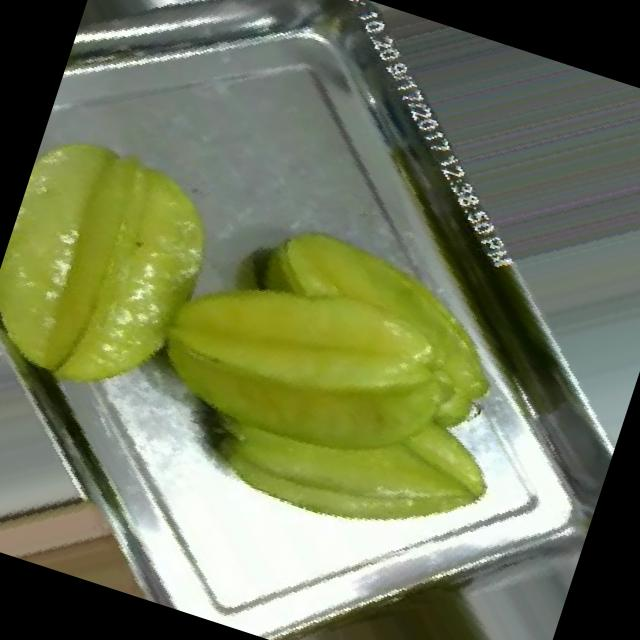fruit: (70, 133, 596, 640), (0, 65, 300, 474), (0, 428, 231, 617), (237, 523, 557, 640)
